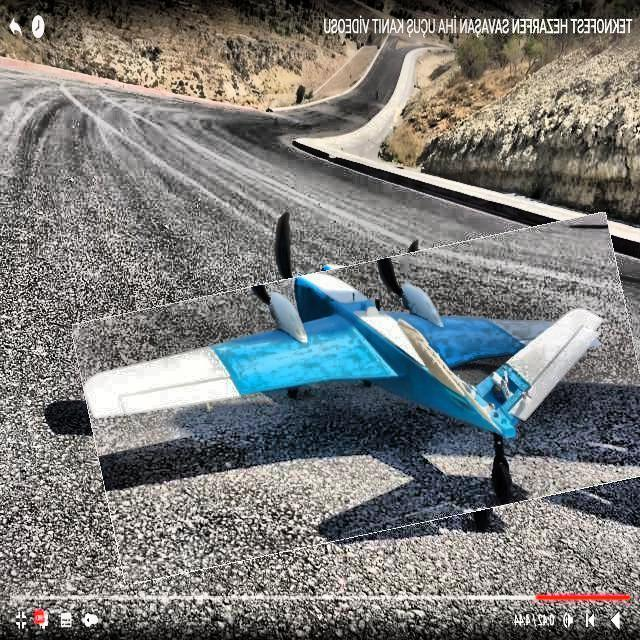iha: (75, 266, 628, 454)
